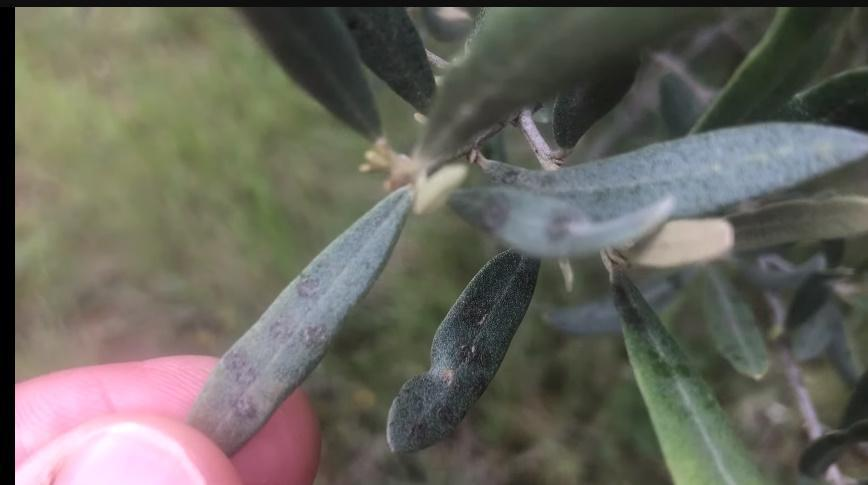OlivePeacockSpot: (197, 190, 411, 434), (388, 256, 537, 451), (448, 190, 670, 258), (343, 9, 435, 112)
